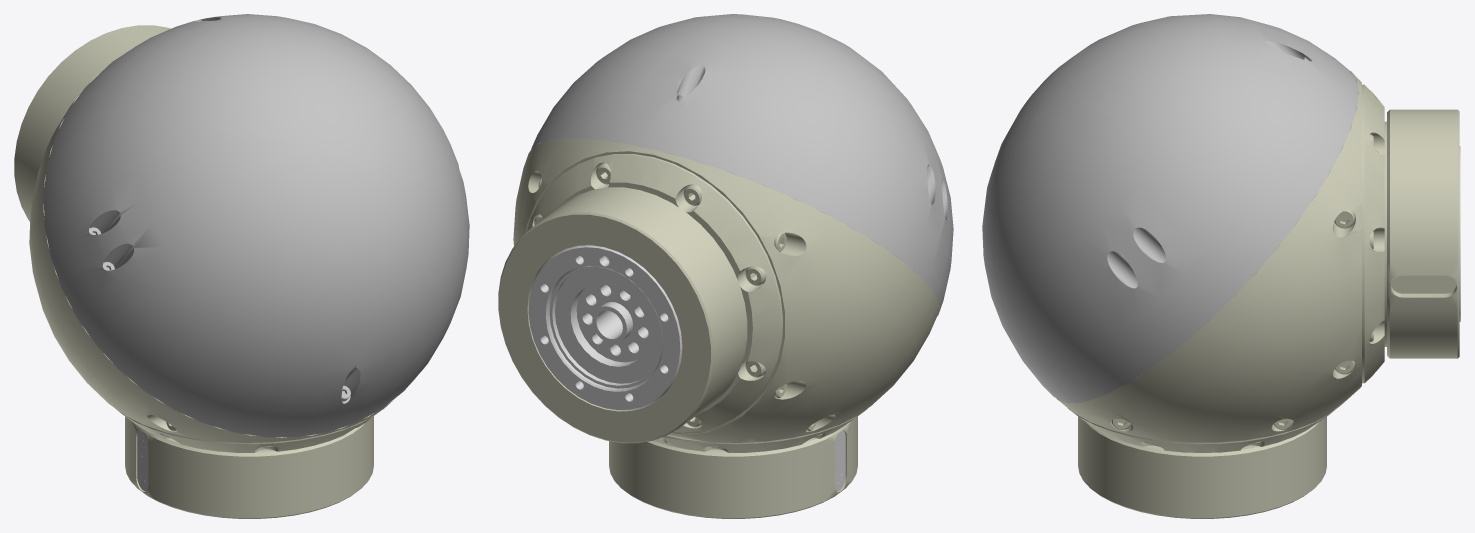
File: LWA46_Link5.dae
The picture shows the model from 3 angles, left to right: view 1: azimuth 30°, elevation 25°; view 2: azimuth 150°, elevation 25°; view 3: azimuth 270°, elevation 25°; orthographic projection.
Visible parts, largest first — view 1: Link5; view 2: Link5; view 3: Link5.
Part boxes in pixels (box(x1,y1,x2,y2)): Link5: box(14, 14, 469, 518); Link5: box(498, 14, 953, 518); Link5: box(982, 14, 1460, 518).
Size of the model in its own units: 0.1149 by 0.1248 by 0.1247.
